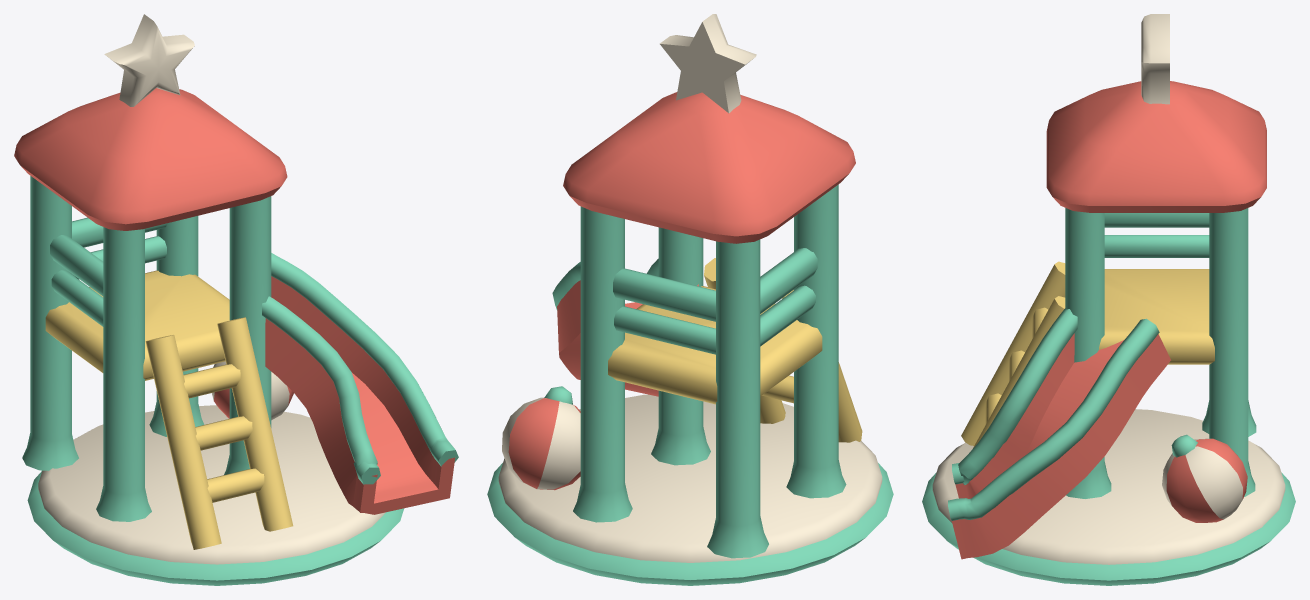
Rendered from ShopPlayStation.fbx.
3 renders of one model, left to right at view 1: azimuth 30°, elevation 25°; view 2: azimuth 150°, elevation 25°; view 3: azimuth 270°, elevation 25°, orthographic. The views are drawn at different scales.
Visible parts, largest first — view 1: ShopPlayStation; view 2: ShopPlayStation; view 3: ShopPlayStation.
Boxes of the visible parts, bbox=[...] form: ShopPlayStation: bbox=[14, 14, 458, 585]; ShopPlayStation: bbox=[487, 14, 893, 585]; ShopPlayStation: bbox=[922, 14, 1295, 585].
Size of the model in its own units: 0.78 by 1.1 by 0.78.
